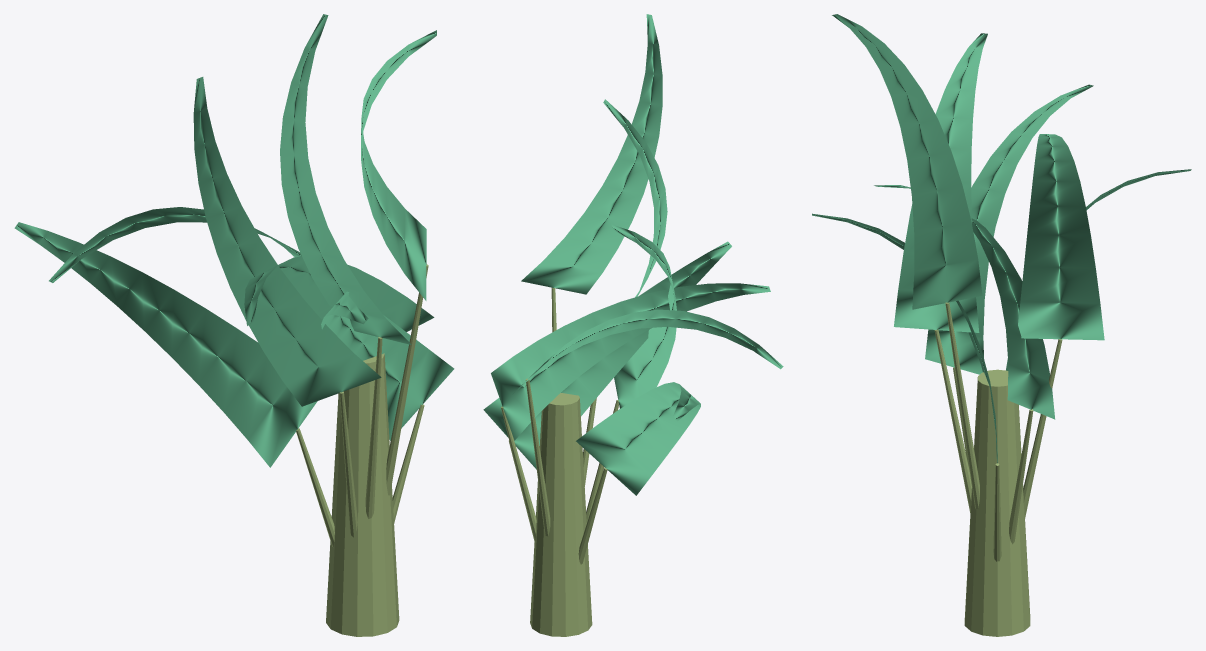
The model's file is banana_clump.glb.
3 renders of one model, left to right at view 1: azimuth 30°, elevation 25°; view 2: azimuth 150°, elevation 25°; view 3: azimuth 270°, elevation 25°, orthographic. The views are drawn at different scales.
Visible parts, largest first — view 1: banana-clump; view 2: banana-clump; view 3: banana-clump.
Boxes of the visible parts, bbox=[...] form: banana-clump: bbox=[14, 14, 454, 636]; banana-clump: bbox=[483, 14, 783, 636]; banana-clump: bbox=[812, 14, 1191, 636].
Bounding box in the file's own units: 2.37 × 3.96 × 2.25.
